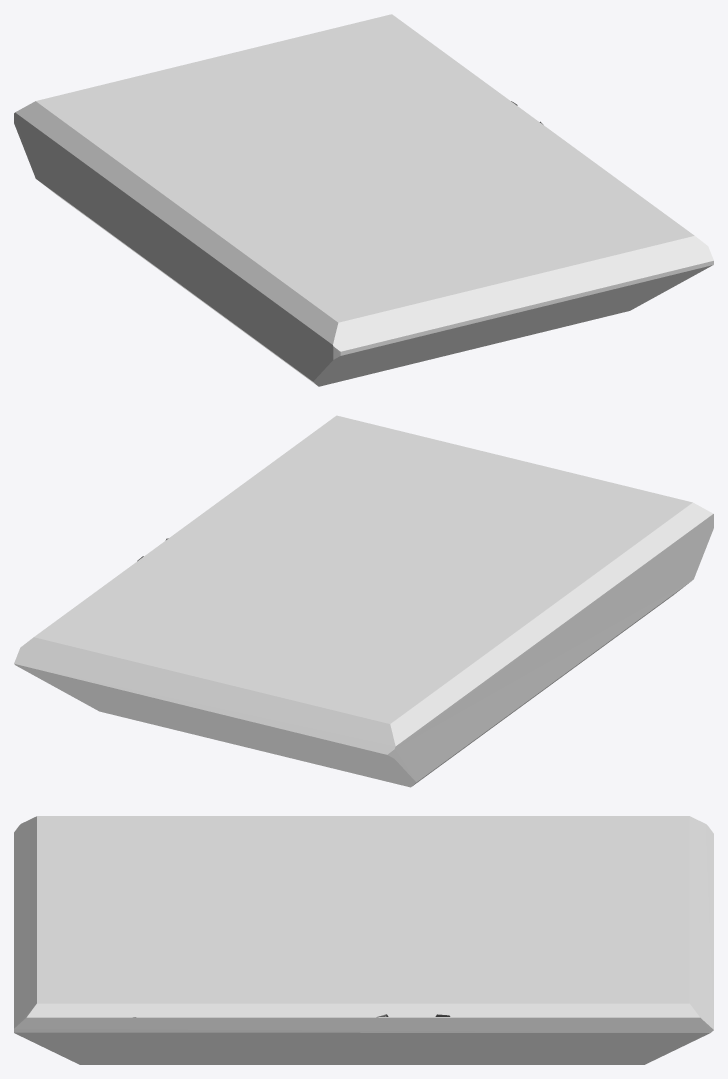
Rendered from SM_metall_roof_02.fbx.
The picture shows the model from 3 angles, top to bottom: view 1: azimuth 30°, elevation 25°; view 2: azimuth 150°, elevation 25°; view 3: azimuth 270°, elevation 25°; orthographic projection. The views are drawn at different scales.
Visible parts, largest first — view 1: SM_metall_roof_02_ConvexHulls; view 2: SM_metall_roof_02_ConvexHulls; view 3: SM_metall_roof_02_ConvexHulls.
Part boxes in pixels (box(x1,y1,x2,y2)): SM_metall_roof_02_ConvexHulls: box(14, 14, 713, 386); SM_metall_roof_02_ConvexHulls: box(14, 415, 713, 787); SM_metall_roof_02_ConvexHulls: box(14, 816, 713, 1064).
Bounding box in the file's own units: 203 × 301 × 40.31.
